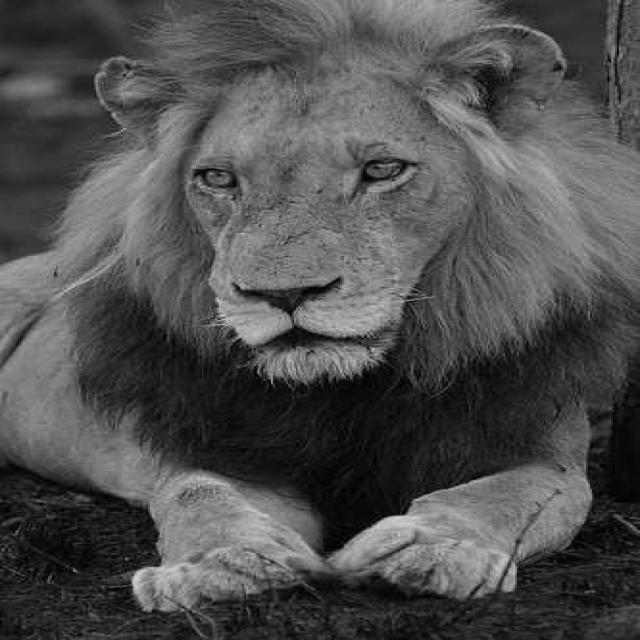Lion: (67, 26, 605, 595)
